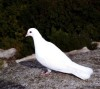pheasant: (22, 28, 94, 83)
